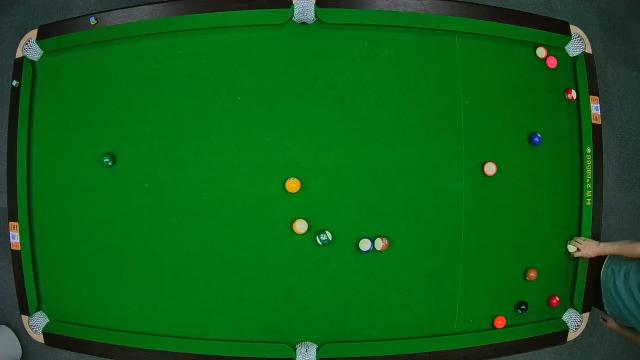bag1: (19, 38, 45, 62)
bag2: (291, 0, 317, 26)
bag3: (566, 29, 588, 57)
bag4: (22, 309, 50, 341)
bag5: (294, 340, 320, 360)
bag6: (563, 308, 585, 332)
ball1: (285, 177, 301, 193)
ball10: (358, 238, 374, 254)
ball11: (564, 88, 578, 102)
ball12: (482, 160, 498, 176)
ball13: (536, 47, 548, 59)
ball14: (316, 230, 332, 248)
ball15: (374, 236, 388, 252)
ball2: (528, 132, 542, 146)
ball3: (548, 294, 560, 308)
ball4: (546, 56, 558, 68)
ball5: (492, 314, 506, 330)
ball6: (100, 153, 116, 169)
ball7: (526, 267, 538, 282)
ball8: (514, 300, 528, 316)
ball9: (293, 218, 309, 236)
